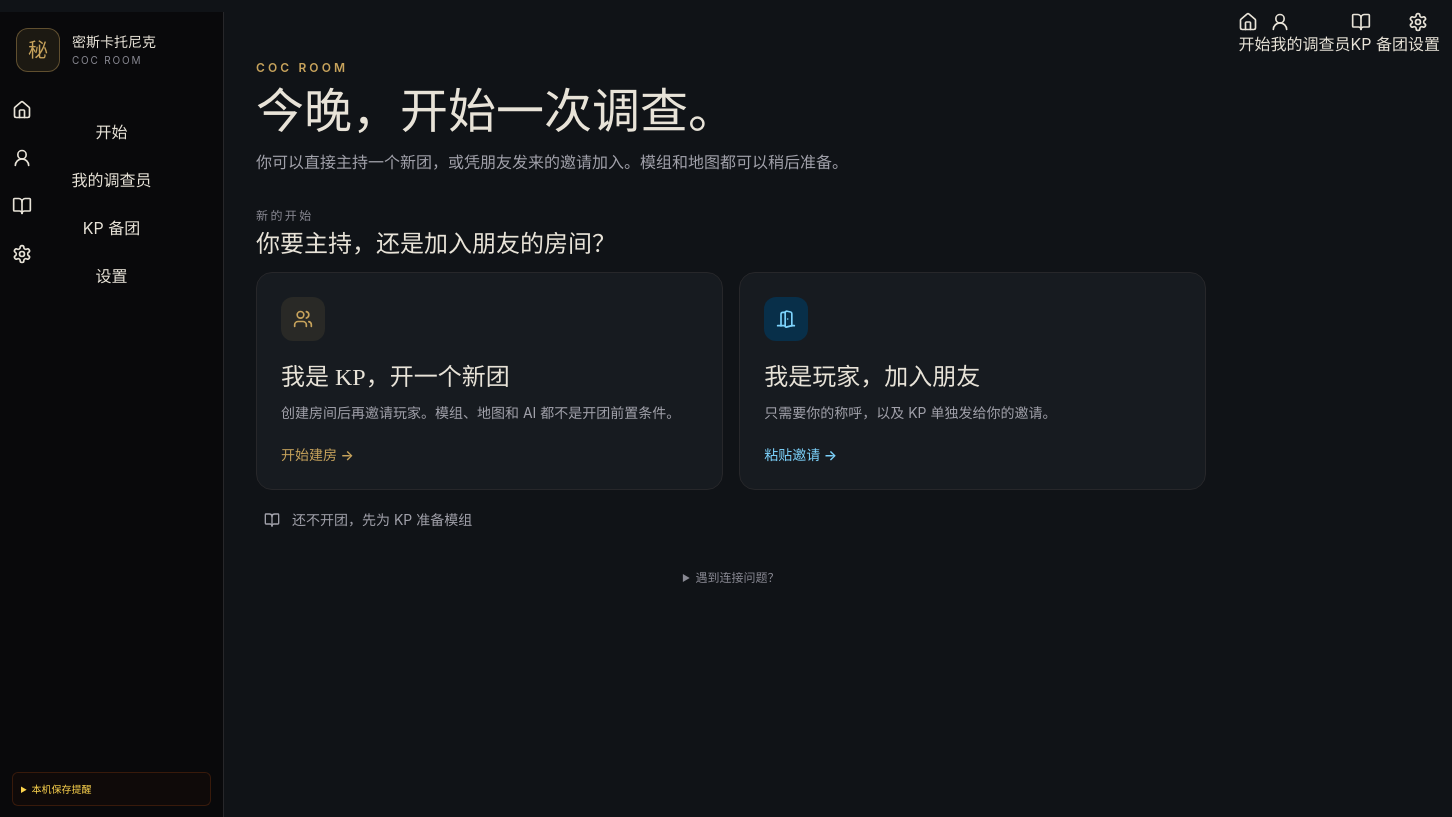
App navigation › shows KP preparation without an active room and opens it
This screenshot has width=1452, height=817.
Click the button "KP 备团" below "密斯卡托尼克" at [112, 218], box [12, 196, 211, 240]
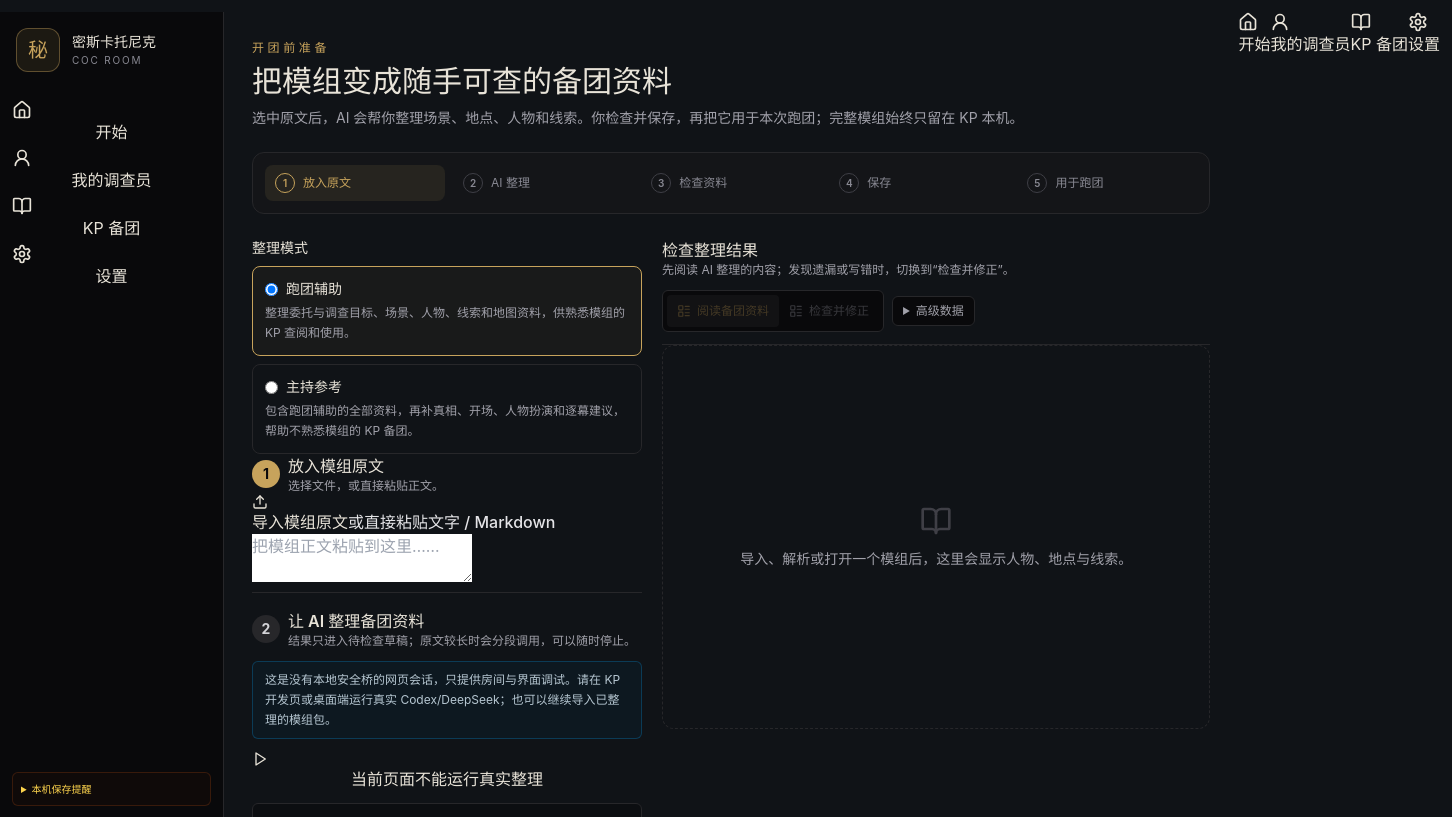
Now the heading "把模组变成随手可查的备团资料" is shown, box [252, 65, 672, 98]
